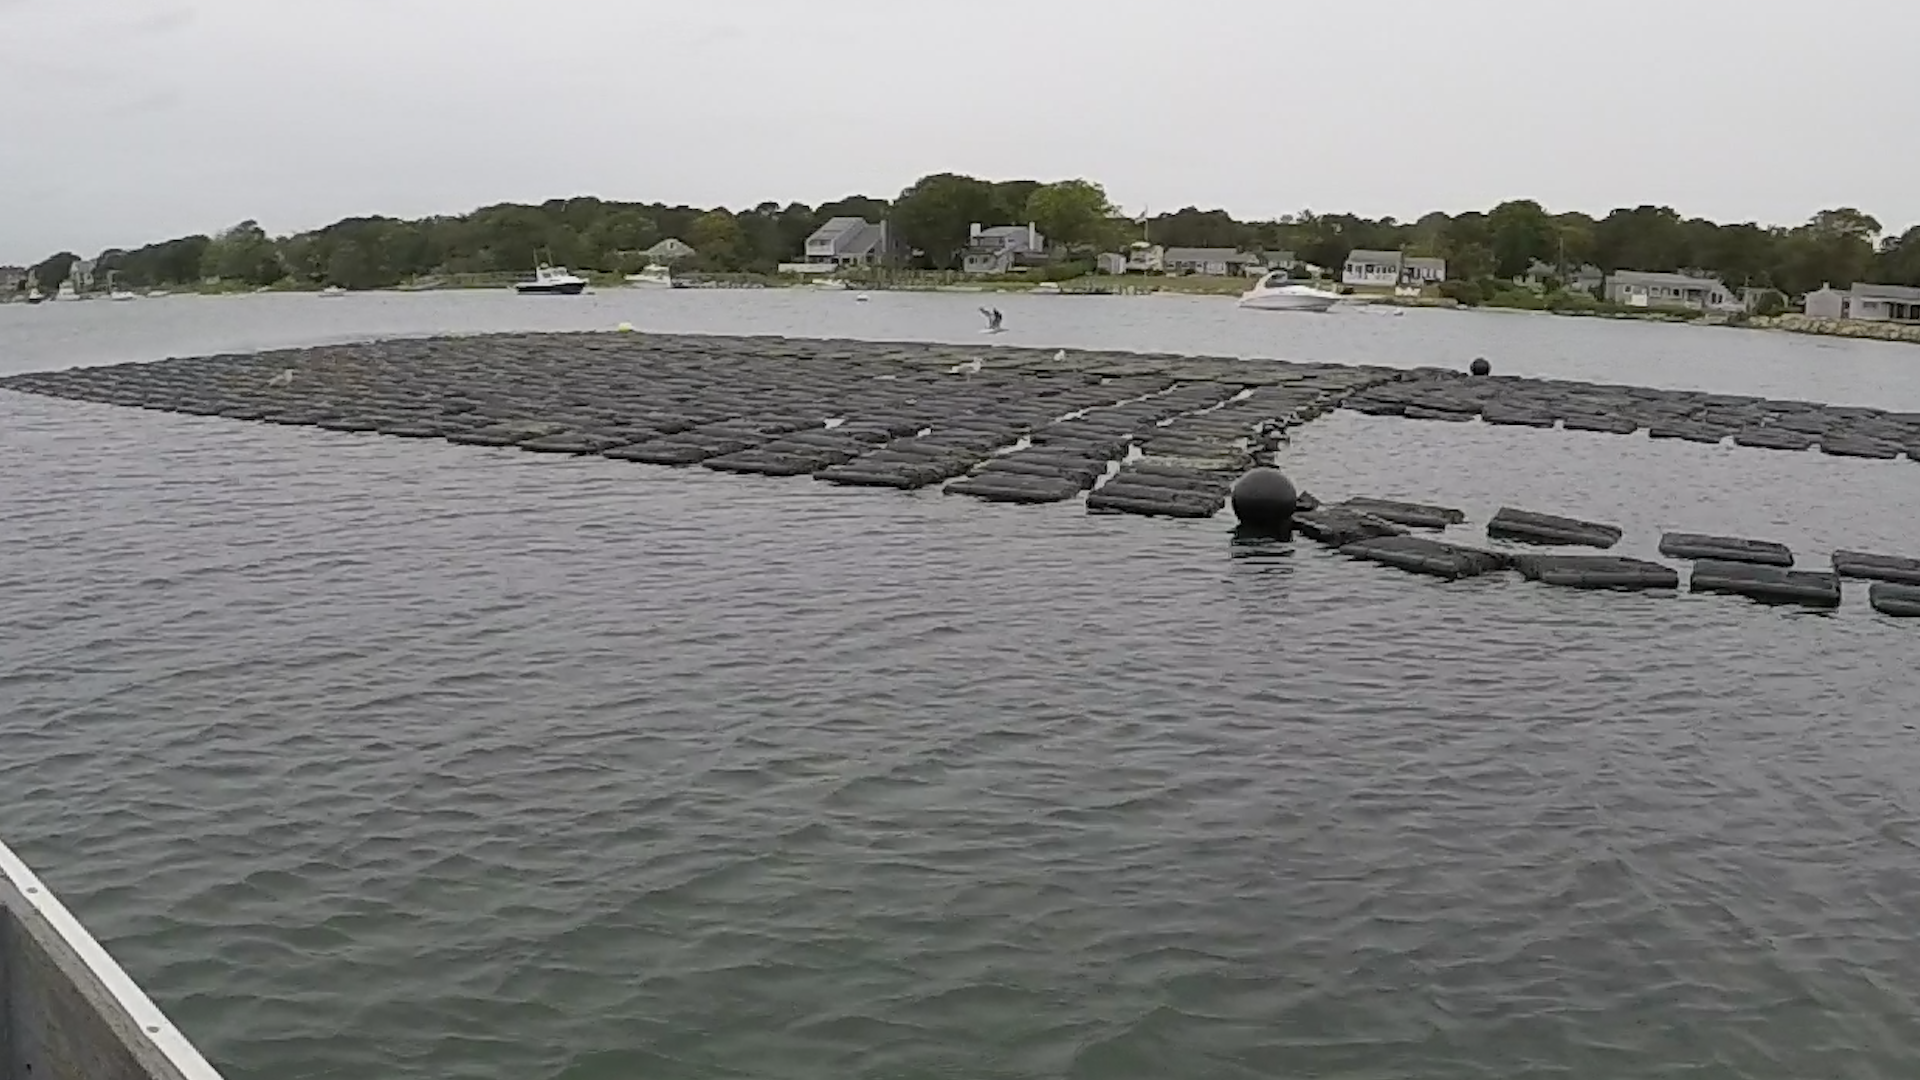bag: (1338, 535, 1510, 588), (1688, 563, 1845, 617), (1515, 549, 1683, 597), (1088, 485, 1226, 524)
